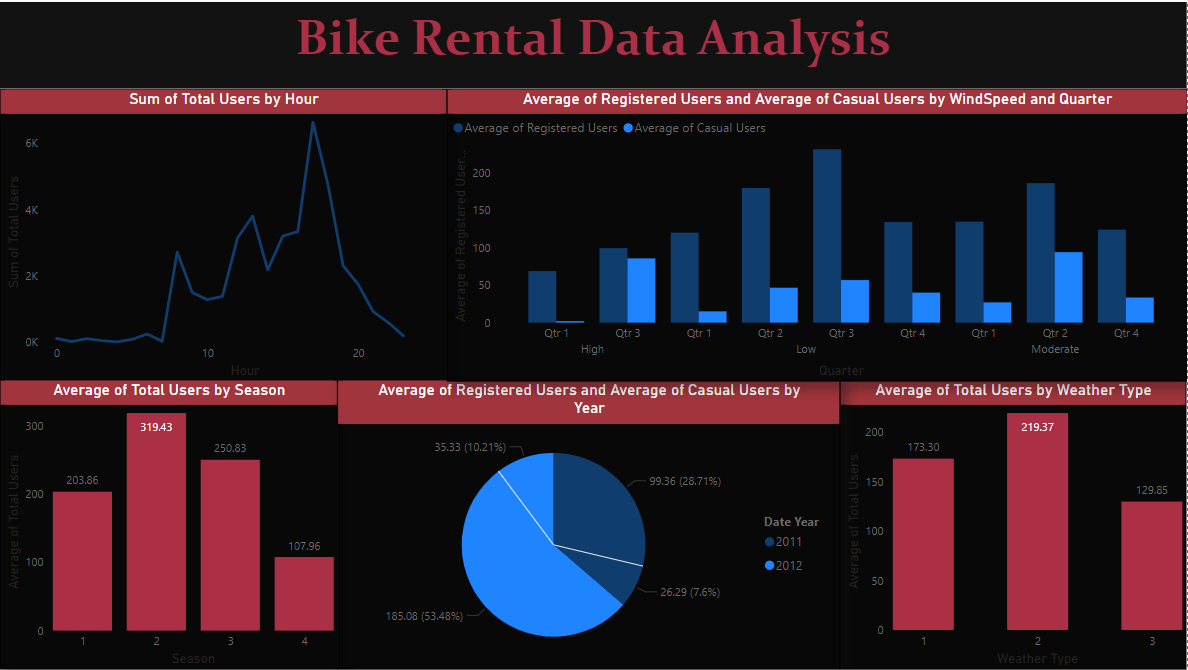

The page's visual inventory and layout, read from the dashboard file:
{"tool":"powerbi","page":{"name":"Dashboards","canvas":[1280,720],"ordinal":0},"visuals":[{"type":"lineChart","fields":{"Category":["bike_data.Hour"],"Y":["Sum(bike_data.Total Users)"]},"box":[0,93.3,481.7,315],"z":0},{"type":"columnChart","fields":{"Category":["bike_data.Season"],"Y":["Avg(bike_data.Total Users)"]},"box":[0,407.7,364,312.3],"z":1000},{"type":"columnChart","fields":{"Category":["bike_data.Weather Type"],"Y":["Avg(bike_data.Total Users)"]},"box":[906.7,408.3,373.3,311.7],"z":2000},{"type":"pieChart","fields":{"Y":["Avg(bike_data.Registered Users)","Avg(bike_data.Casual Users)"],"Category":["bike_data.Date.Variation.Date Hierarchy.Year"]},"box":[364,407.7,542,312.3],"z":3000},{"type":"clusteredColumnChart","fields":{"Category":["bike_data.WindSpeed","bike_data.Date.Variation.Date Hierarchy.Quarter"],"Y":["Avg(bike_data.Registered Users)","Avg(bike_data.Casual Users)"]},"box":[481.7,93.3,798.3,315],"z":4000},{"type":"textbox","box":[0,0,1280,93.3],"z":5001}]}

Visuals, with their boxes in screenshot pixels (x1, y1, x2, y2), scaled from the page's 1280x720 canvas onto the 1188x670 screenshot:
lineChart - bike_data.Hour x Sum(bike_data.Total Users): [left=0, top=87, right=447, bottom=380]
columnChart - bike_data.Season x Avg(bike_data.Total Users): [left=0, top=379, right=338, bottom=669]
columnChart - bike_data.Weather Type x Avg(bike_data.Total Users): [left=842, top=380, right=1187, bottom=669]
pieChart - Avg(bike_data.Registered Users) x Avg(bike_data.Casual Users): [left=338, top=379, right=841, bottom=669]
clusteredColumnChart - bike_data.WindSpeed x bike_data.Date.Variation.Date Hierarchy.Quarter: [left=447, top=87, right=1187, bottom=380]
textbox: [left=0, top=0, right=1187, bottom=87]
